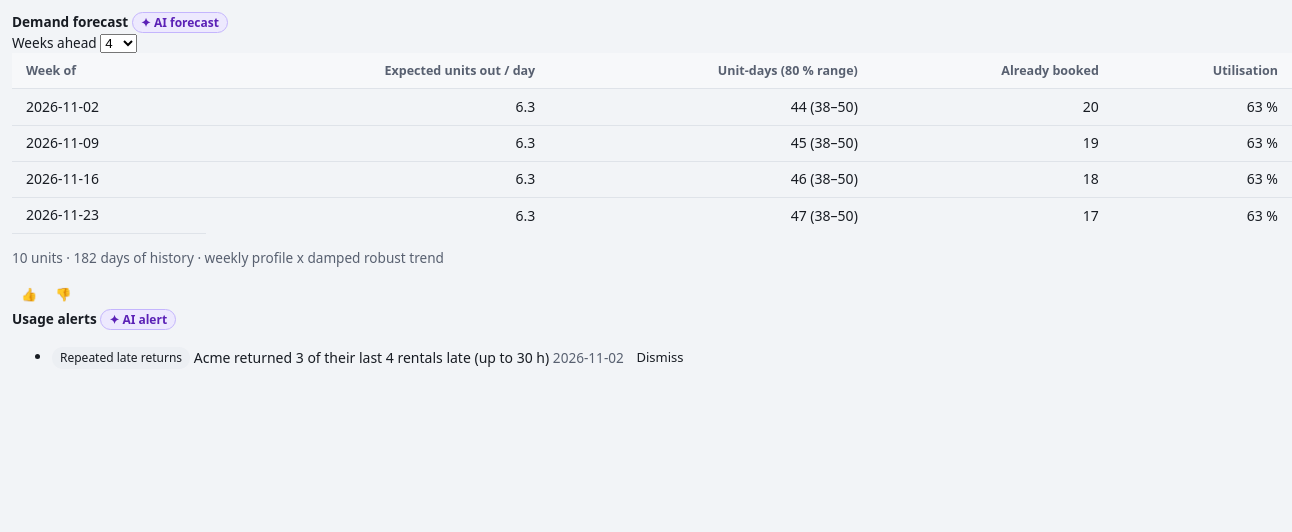
Rental AI panels › shows the weekly forecast beside what is booked, and the product's alerts
The image size is (1292, 532).
Expected: the column heading "2026-11-02" is shown, [12,90,206,126]
Expected: the text "63 %" is shown 4 times, [1113,90,1291,126]; [1113,126,1291,162]; [1113,162,1291,198]; [1113,198,1291,234]
Select "8" in the dropdown labelled "Weeks ahead" at (119, 44), box [100,34,137,53]
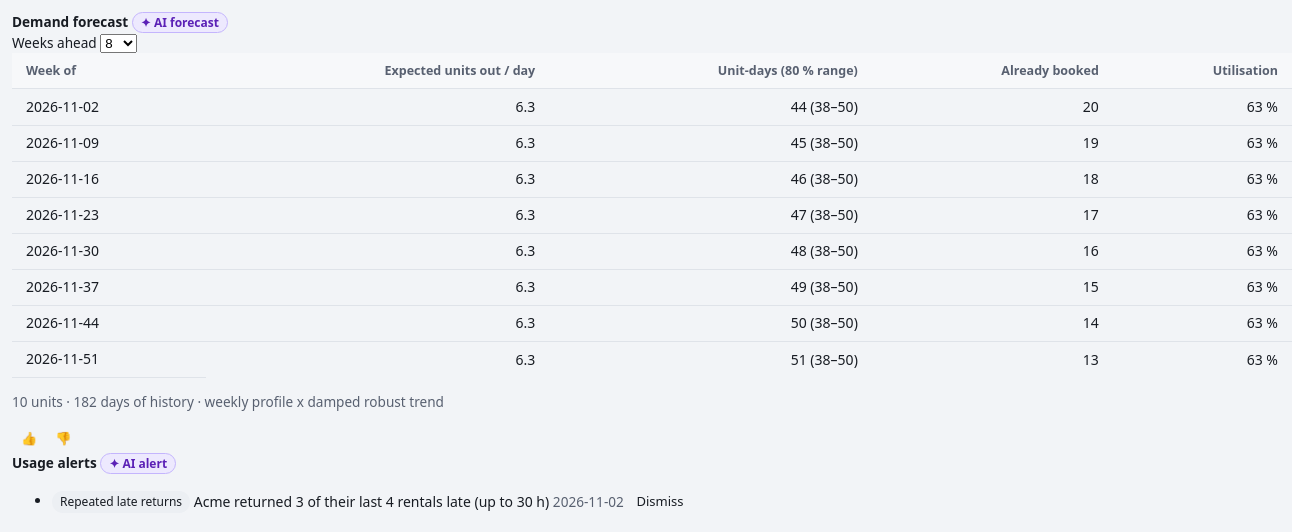
Expected: the text "Acme returned 3 of their last 4 rentals late (up to 30 h)" is shown, [194,491,549,510]
Expected: the number of rows is 9
Click the button "Dismiss".
click(660, 502)  # box [628,488,692,516]
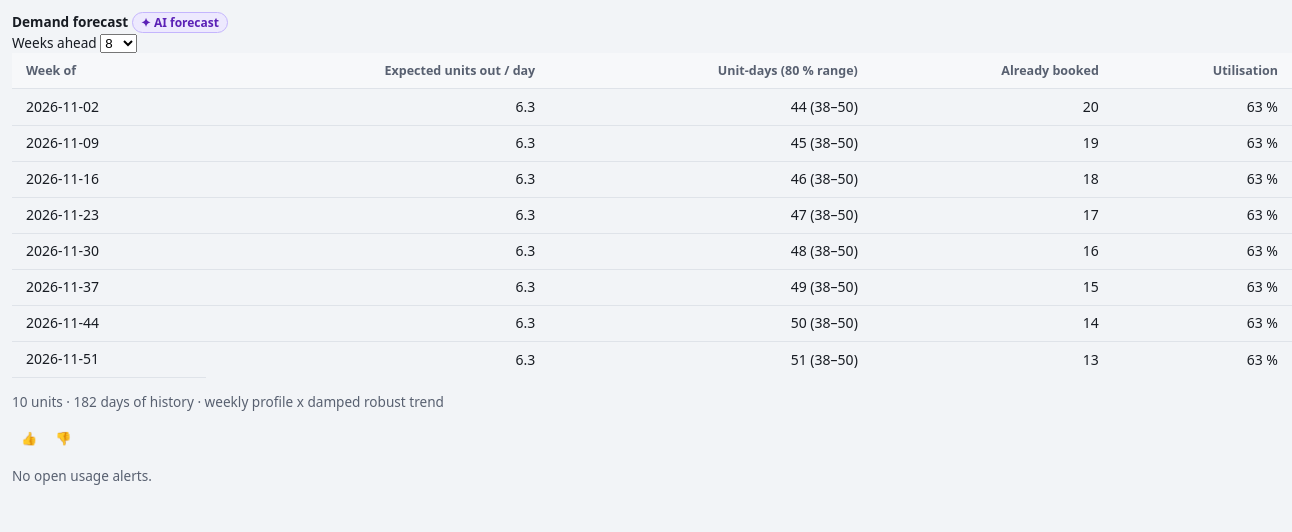
Expected: the text "No open usage alerts." is shown, [12,466,152,485]
